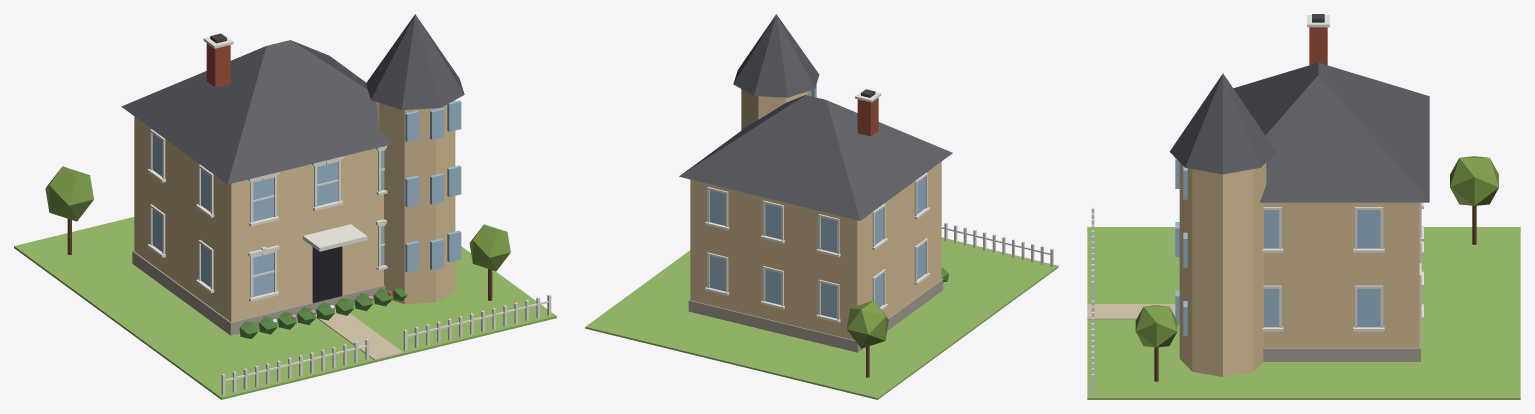
Rendered from Konut_villa_3_Hafif.fbx.
3 views of the same model, side by side, from view 1: azimuth 30°, elevation 25°; view 2: azimuth 150°, elevation 25°; view 3: azimuth 270°, elevation 25° (orthographic). The views are drawn at different scales.
Visible parts, largest first — view 1: Konut_villa_3_Hafif; view 2: Konut_villa_3_Hafif; view 3: Konut_villa_3_Hafif.
Part boxes in pixels (x1,y1,x2,y2): Konut_villa_3_Hafif: [14, 14, 556, 399]; Konut_villa_3_Hafif: [585, 14, 1058, 399]; Konut_villa_3_Hafif: [1087, 14, 1520, 399].
Bounding box in the file's own units: 14 × 10.98 × 15.
